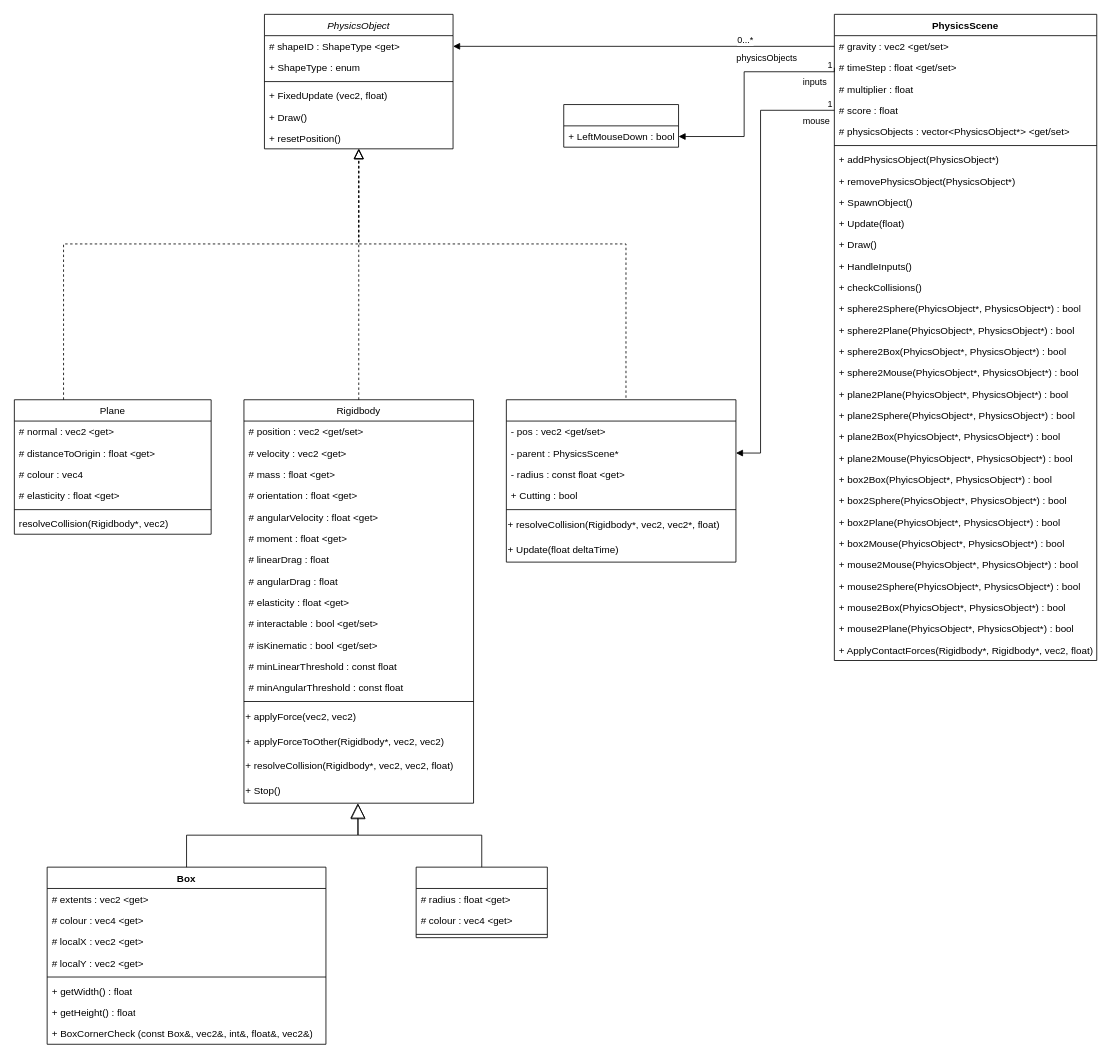
Some shapes in this 1111 by 1061 pixel diagram are drawn without their labels. The shapes that lost their labels are listed below. From the top down, each one's box as (x1, y1, x2, y2) in pixels, then its label:
(563, 104, 679, 147): <<struct>> FrameInput
(506, 399, 736, 562): MouseObj
(415, 866, 547, 938): Sphere
